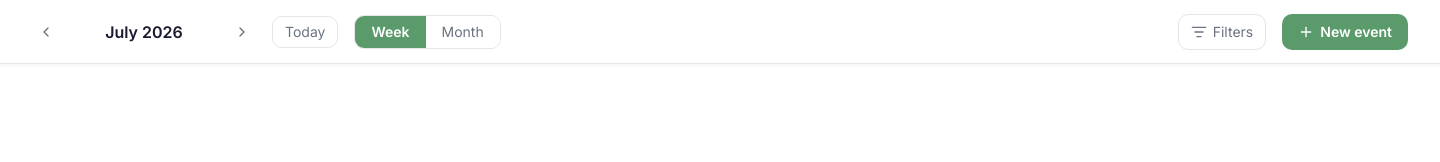
Test: CalendarTopBar — lobby filter › shows a Filters button listing every lobby when there is more than one
Click the button "Filters". click: (1222, 32)
box: [1178, 14, 1266, 50]
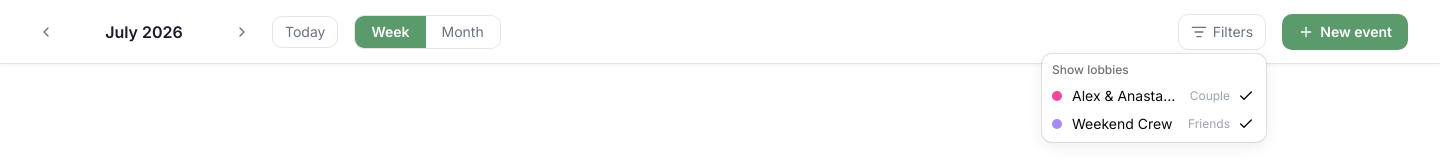
Now the text "Alex & Anastasiia" is shown, box [1072, 86, 1180, 106]
Now the text "Weekend Crew" is shown, box [1072, 114, 1172, 134]
